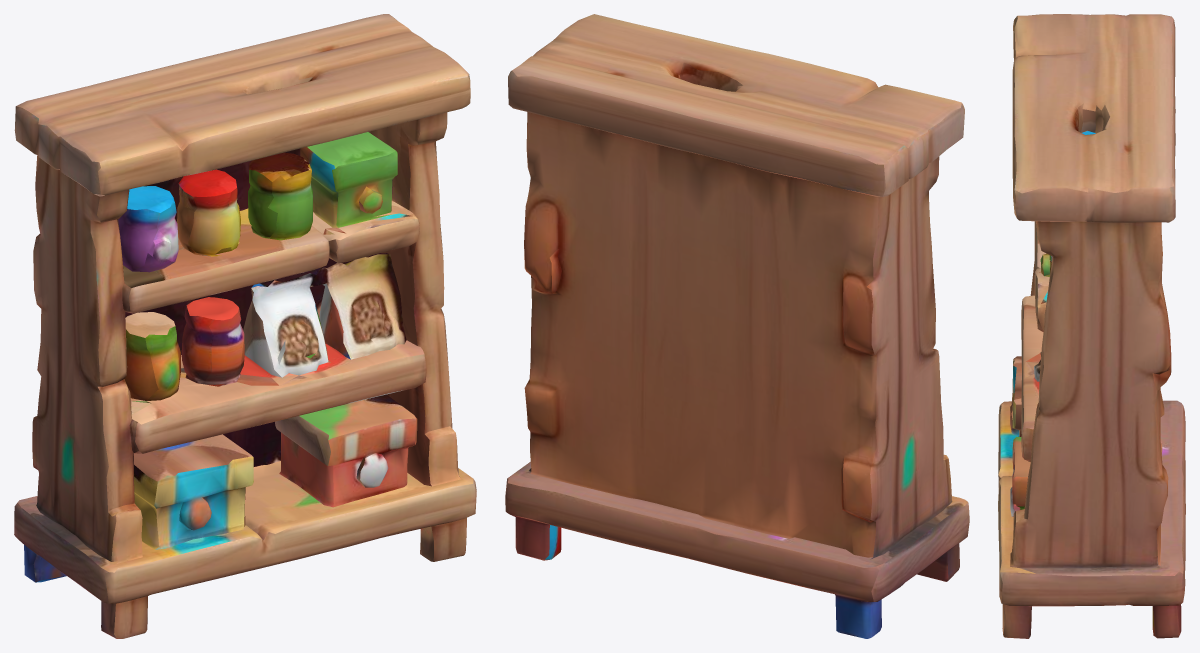
Rendered from shelf.glb.
3 renders of one model, left to right at view 1: azimuth 30°, elevation 25°; view 2: azimuth 150°, elevation 25°; view 3: azimuth 270°, elevation 25°, orthographic. The views are drawn at different scales.
Visible parts, largest first — view 1: shelf_s15; view 2: shelf_s15; view 3: shelf_s15.
Boxes of the visible parts, x1=… form: shelf_s15: x1=14, y1=14, x2=476, y2=638; shelf_s15: x1=505, y1=14, x2=969, y2=638; shelf_s15: x1=998, y1=14, x2=1185, y2=638.
Size of the model in its own units: 0.8312 by 1 by 0.3711.
Materials: 1 (1 with a texture image).
